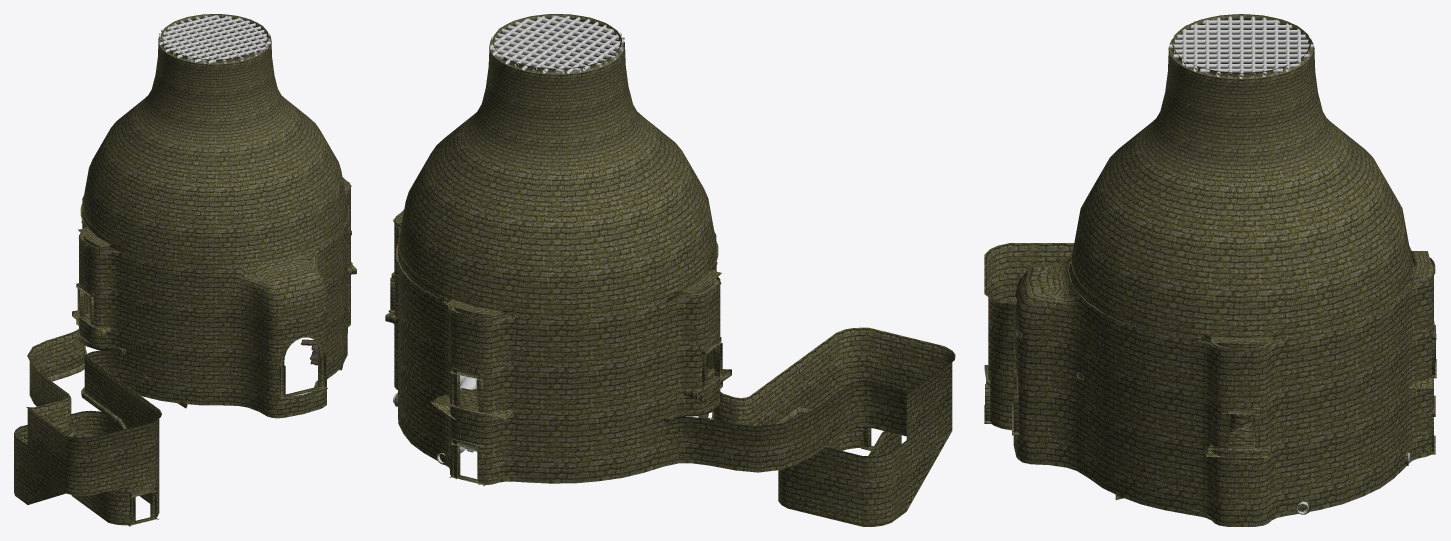
The model's file is cisternentr_levelbase.dae.
3 views of the same model, side by side, from view 1: azimuth 30°, elevation 25°; view 2: azimuth 150°, elevation 25°; view 3: azimuth 270°, elevation 25° (orthographic). The views are drawn at different scales.
Visible parts, largest first — view 1: polySurface715, polySurface579; view 2: polySurface715, polySurface579; view 3: polySurface715, polySurface579.
Boxes of the visible parts, bbox=[...] form: polySurface715: bbox=[14, 14, 356, 526]; polySurface579: bbox=[158, 15, 270, 63]; polySurface715: bbox=[385, 14, 955, 526]; polySurface579: bbox=[490, 15, 624, 73]; polySurface715: bbox=[984, 14, 1436, 526]; polySurface579: bbox=[1169, 15, 1313, 78].
Bounding box in the file's own units: 39.51 × 37.54 × 32.14.
